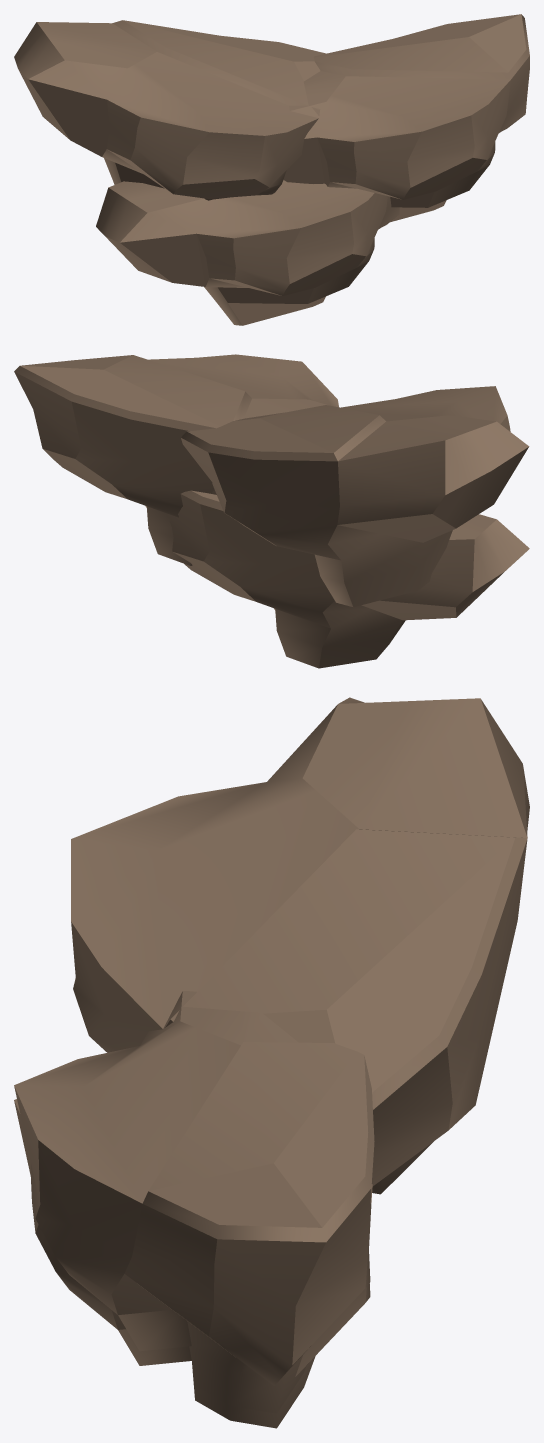
3 renders of one model, top to bottom at view 1: azimuth 30°, elevation 25°; view 2: azimuth 150°, elevation 25°; view 3: azimuth 270°, elevation 25°, orthographic. The views are drawn at different scales.
Visible parts, largest first — view 1: mergedBlocks(Clone); view 2: mergedBlocks(Clone); view 3: mergedBlocks(Clone).
Boxes of the visible parts, <box> form: mergedBlocks(Clone): <box>14,14,529,325</box>; mergedBlocks(Clone): <box>14,354,529,668</box>; mergedBlocks(Clone): <box>14,697,529,1428</box>.
Bounding box in the file's own units: 6.91 × 3.95 × 3.39.
1 material, 1 textured.
